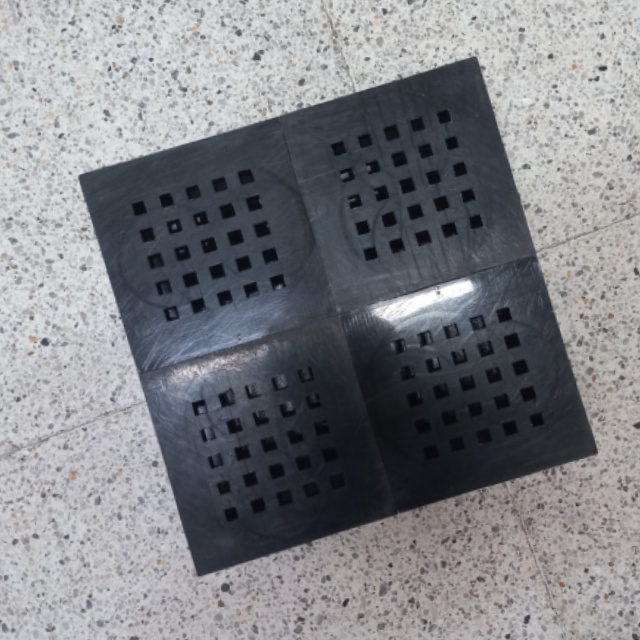pallet: (64, 31, 602, 587)
